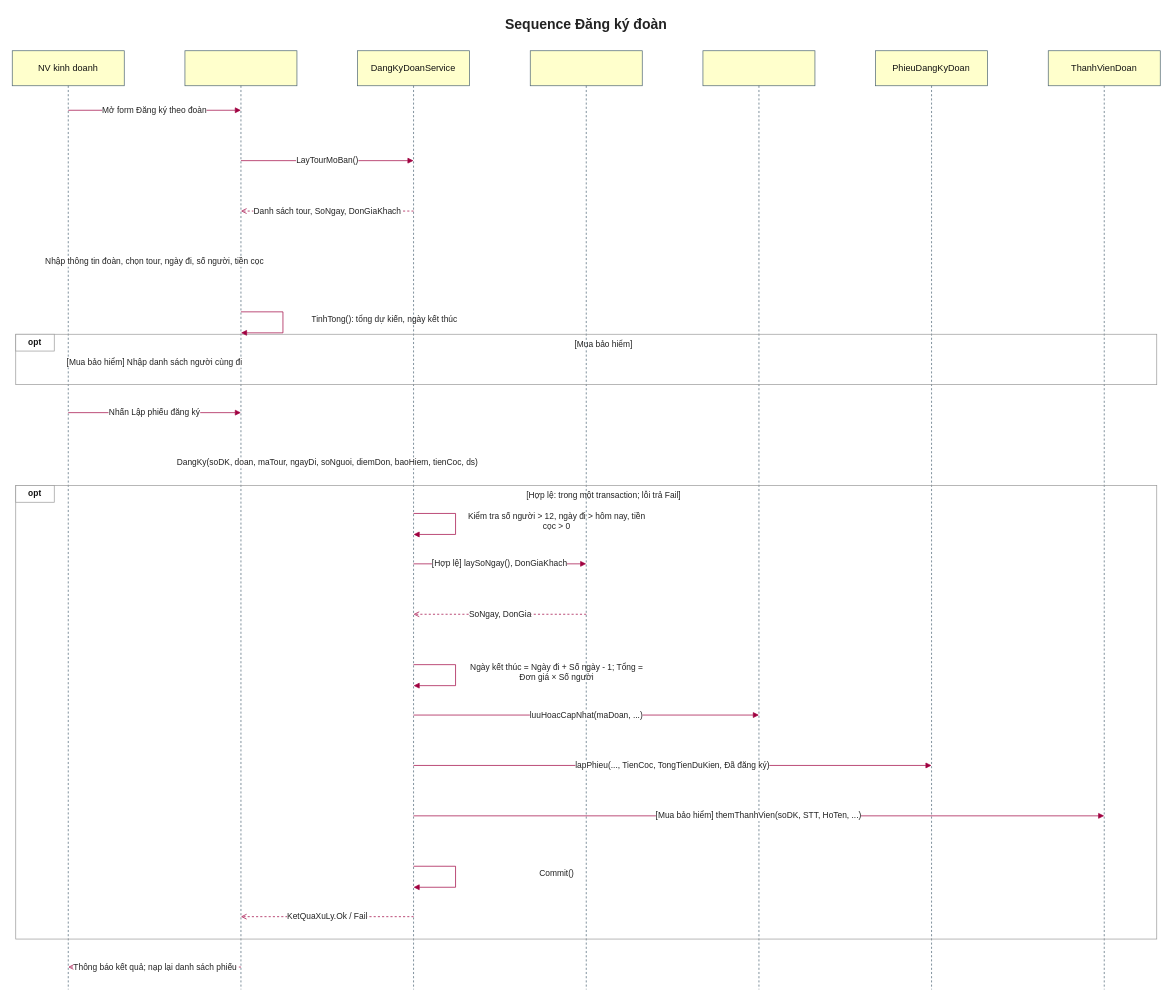
Image size: 1173x1002. Some labels were removed from this diagram. The box of each missing label's shape, as (x1, y1, x2, y2) in pixels:
DoanKhach: (702, 50, 815, 989)
FrmDangKyDoan: (184, 50, 297, 989)
Tour: (530, 50, 642, 989)
